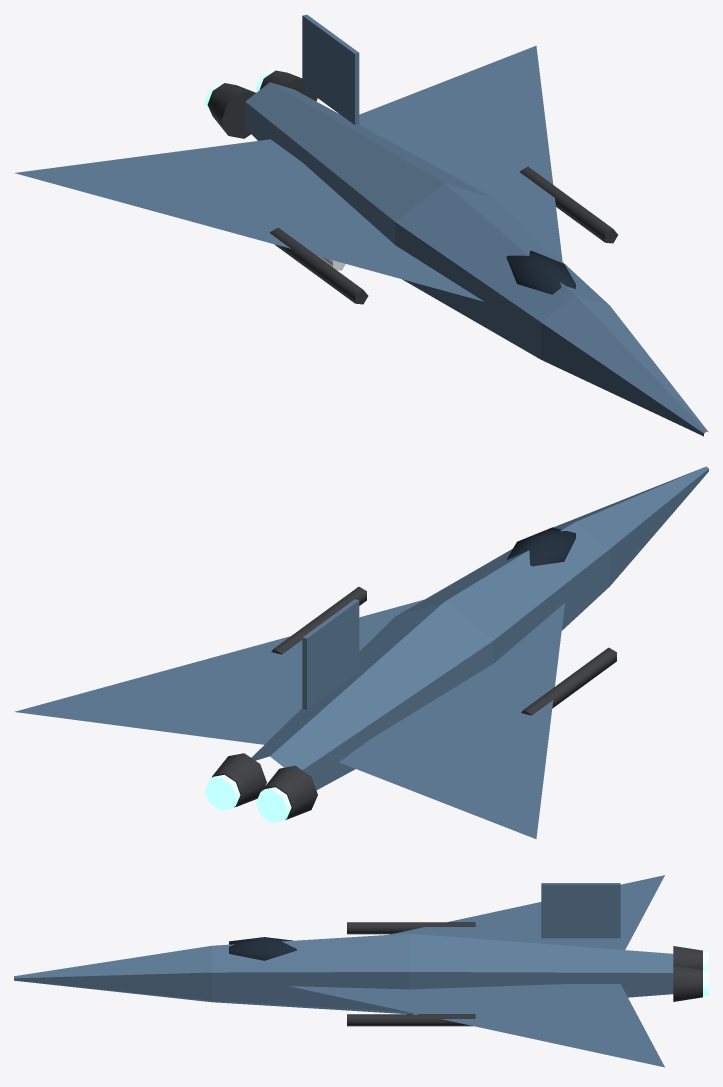
File: space_ship_interceptor_mk5.glb
The picture shows the model from 3 angles, top to bottom: view 1: azimuth 30°, elevation 25°; view 2: azimuth 150°, elevation 25°; view 3: azimuth 270°, elevation 25°; orthographic projection. The views are drawn at different scales.
Parts seen in each view (by area): view 1: body, engine_0, gun_r, gun_l, engine_1; view 2: body, engine_0, engine_1, gun_r, gun_l; view 3: body, gun_l, engine_1, gun_r, engine_0.
Boxes of the visible parts, x1=… form: body: x1=14, y1=14, x2=708, y2=436; engine_0: x1=205, y1=81, x2=255, y2=138; gun_r: x1=270, y1=227, x2=368, y2=304; gun_l: x1=519, y1=166, x2=617, y2=243; engine_1: x1=256, y1=69, x2=317, y2=101; body: x1=14, y1=466, x2=708, y2=838; engine_0: x1=256, y1=765, x2=317, y2=823; engine_1: x1=205, y1=753, x2=266, y2=810; gun_r: x1=521, y1=647, x2=616, y2=715; gun_l: x1=271, y1=586, x2=366, y2=654; body: x1=14, y1=875, x2=673, y2=1067; gun_l: x1=347, y1=1014, x2=475, y2=1026; engine_1: x1=673, y1=965, x2=708, y2=1001; gun_r: x1=347, y1=922, x2=475, y2=934; engine_0: x1=673, y1=946, x2=708, y2=970.
Size of what is drawn, in the model's own units: 9.2 by 2.91 by 14.04.
